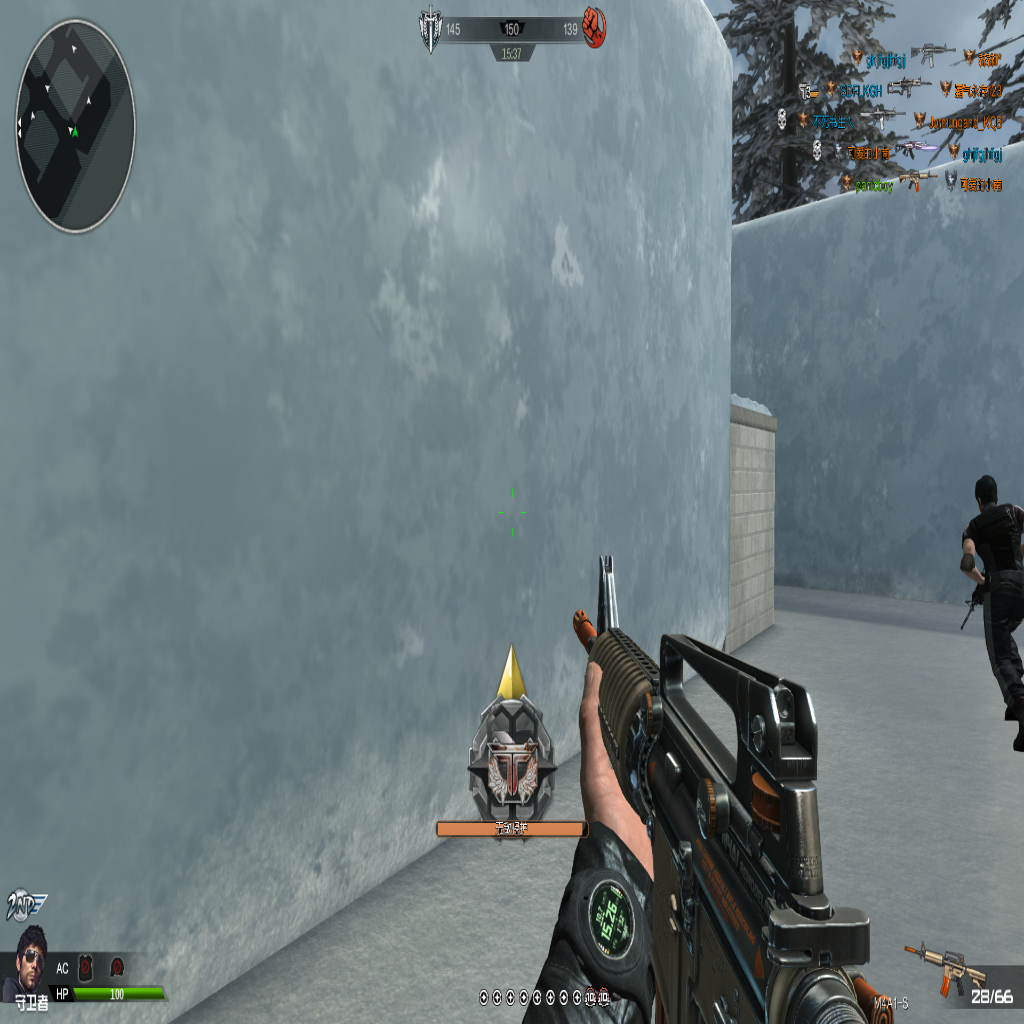ct: (963, 472, 1024, 754)
